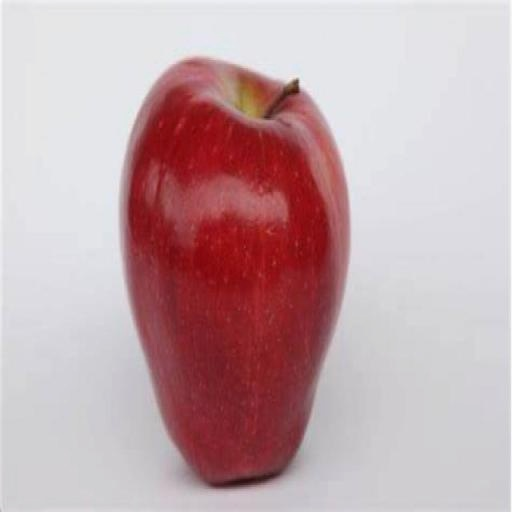fruit: (121, 59, 348, 483)
